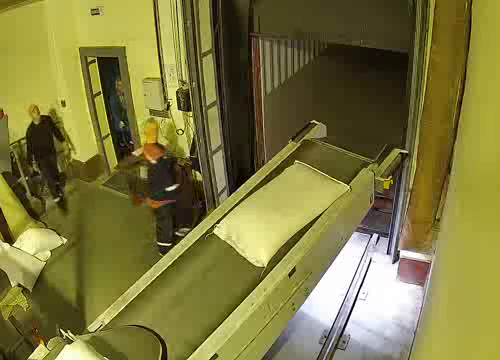bag: (205, 152, 360, 268), (43, 333, 124, 360)
